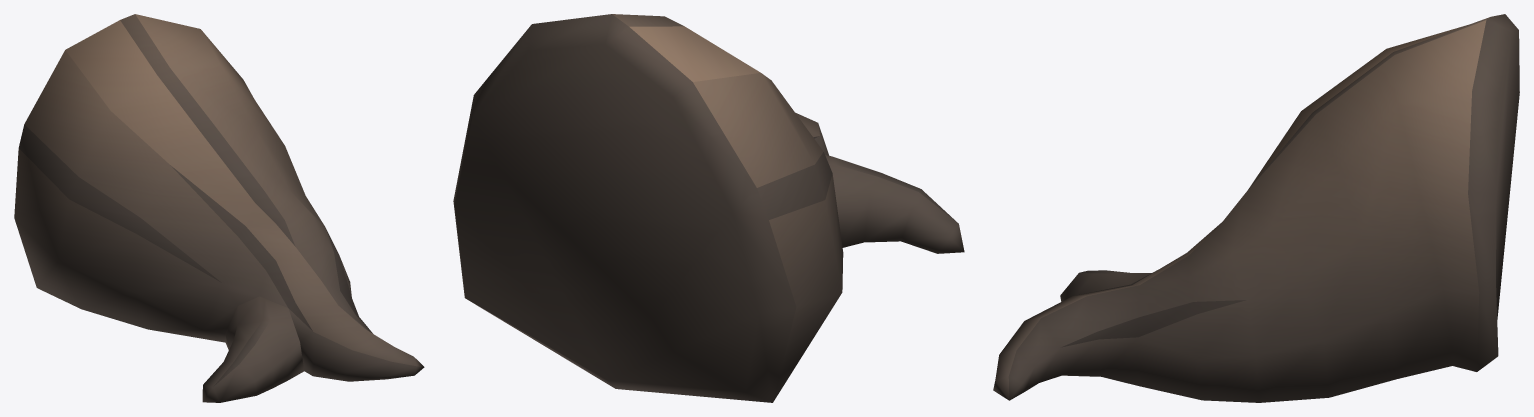
The model's file is elf_tree_root_4.fbx.
The picture shows the model from 3 angles, left to right: view 1: azimuth 30°, elevation 25°; view 2: azimuth 150°, elevation 25°; view 3: azimuth 270°, elevation 25°; orthographic projection. The views are drawn at different scales.
Visible parts, largest first — view 1: elf_tree_root_4; view 2: elf_tree_root_4; view 3: elf_tree_root_4.
Part boxes in pixels (x1=…): elf_tree_root_4: x1=14, y1=14, x2=424, y2=402; elf_tree_root_4: x1=453, y1=14, x2=964, y2=402; elf_tree_root_4: x1=993, y1=14, x2=1519, y2=402.
Size of the model in its own units: 209 by 218 by 310.
